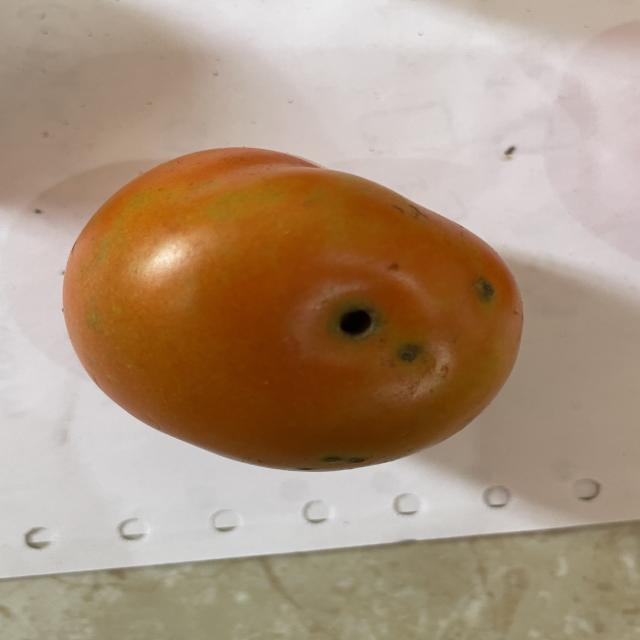fruitworm_bore: (318, 297, 424, 368)
